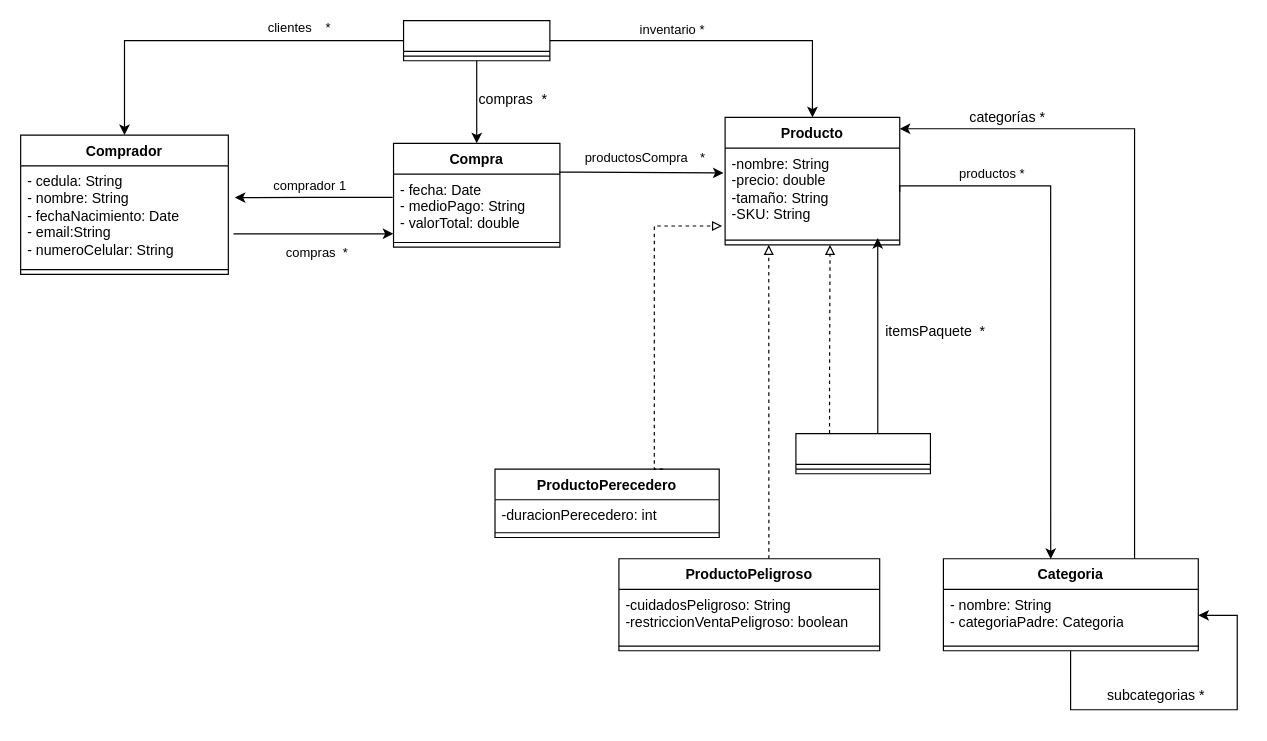
Image size: 1267x741. Some labels were removed from this diagram. Here are the shapes that lost their labels. From the top down, the centre of each, then its label:
pixel 476 40: Ferreteria
pixel 862 453: Paquete
